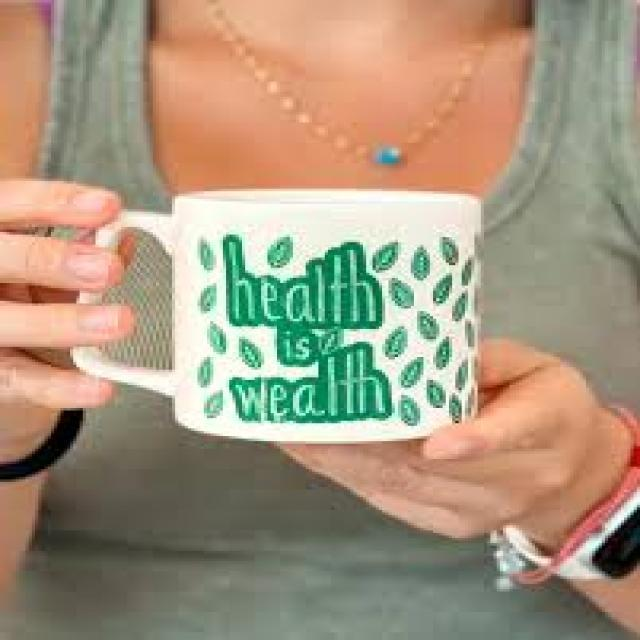taza: (69, 186, 483, 444)
